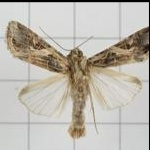Spodoptera litura: (4, 20, 146, 139)
